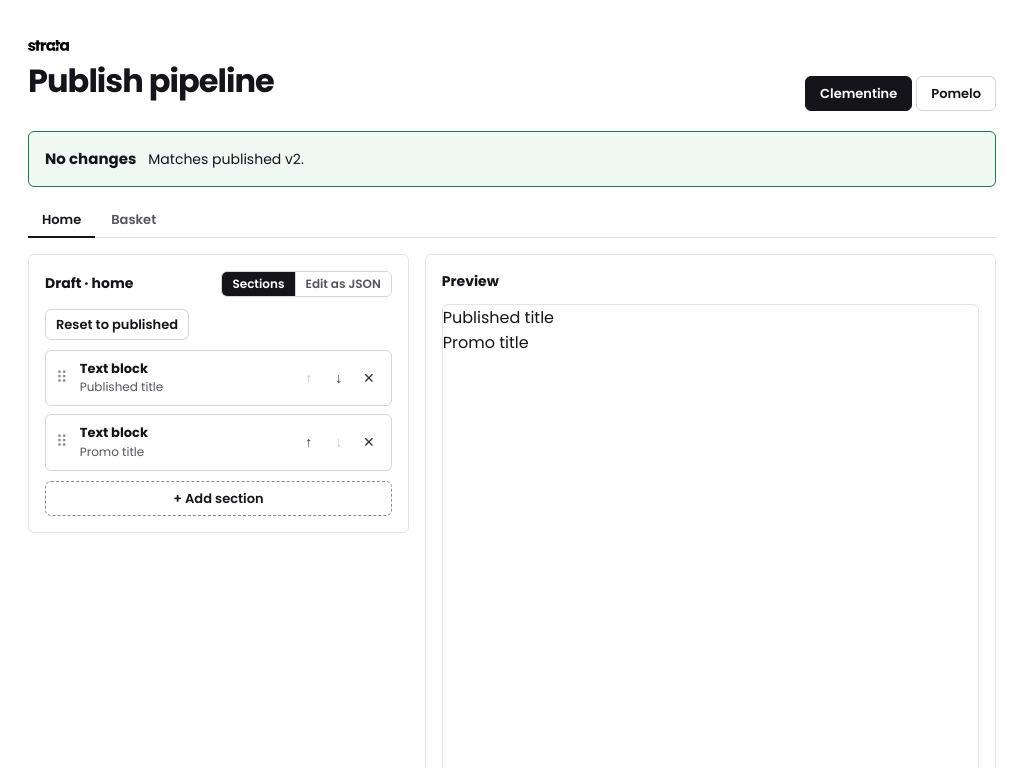
Test case: the JSON view › shows why a draft was refused and keeps the last valid preview
Expected: the text "Matches published v2." is shown, x1=148 y1=150 x2=304 y2=170
Click the button "Edit as JSON".
click(343, 284)  # box x1=294 y1=272 x2=391 y2=296
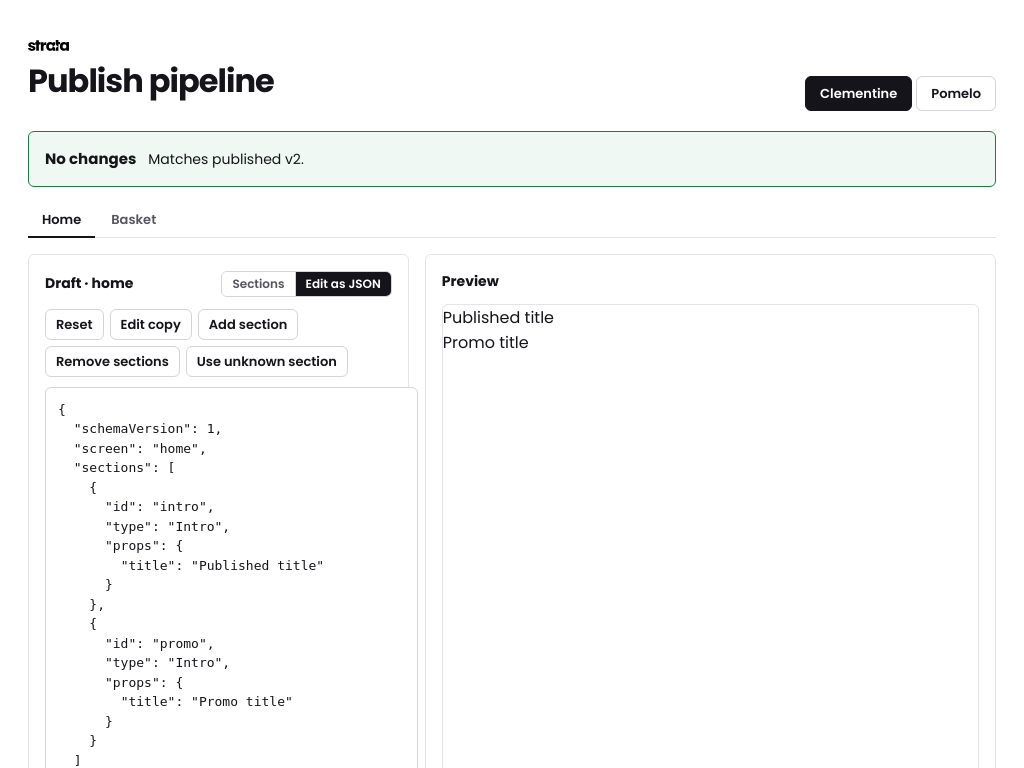
Click the button "Use unknown section".
click(267, 361)  # box x1=186 y1=346 x2=348 y2=377
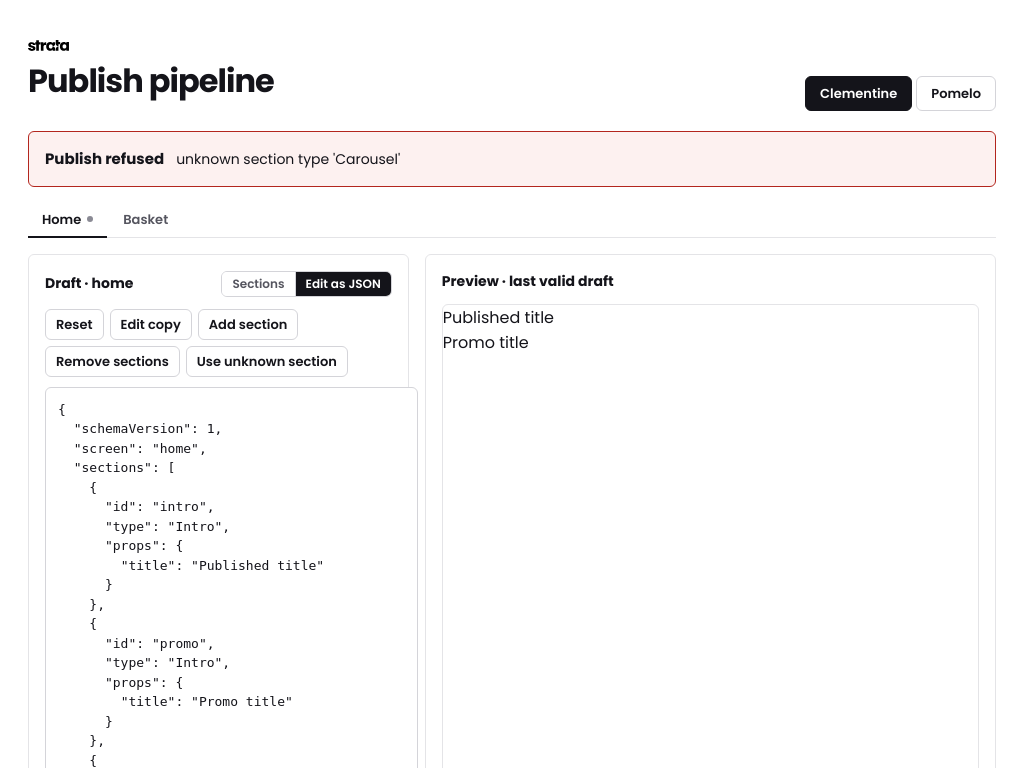
Expected: the heading "Published title" is shown, x1=443 y1=306 x2=554 y2=329
Result: the text "Publish refused" is shown at x1=45 y1=148 x2=164 y2=169
Result: the text "unknown section type 'Carousel'" is shown at x1=176 y1=150 x2=400 y2=170
